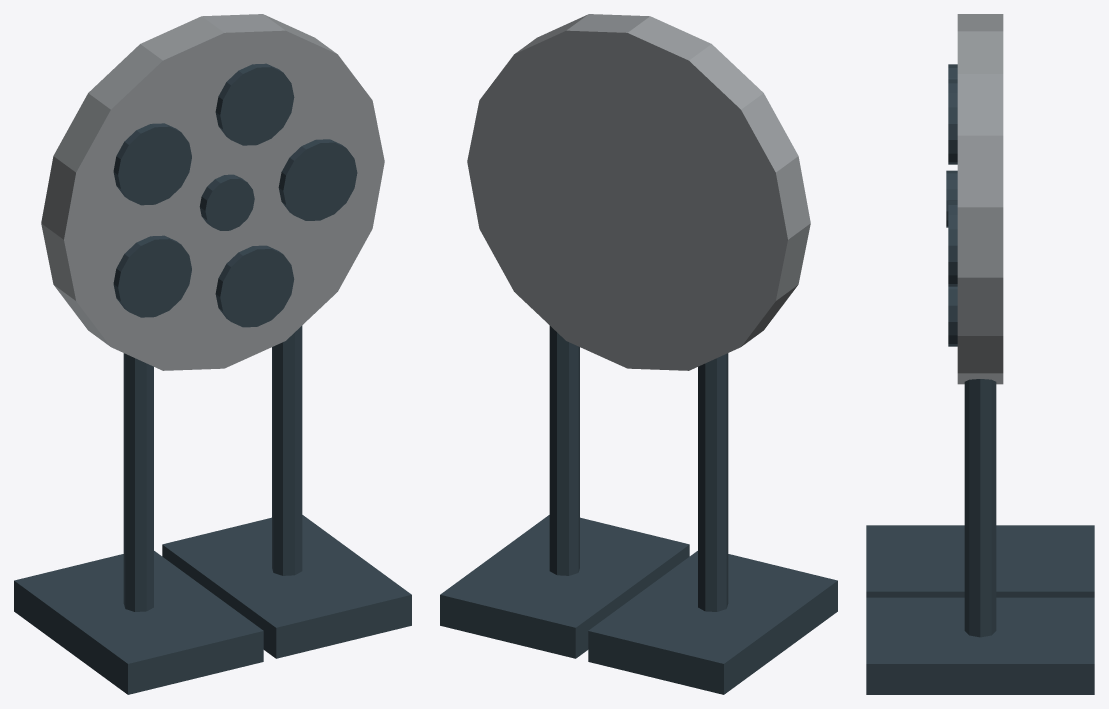
Rendered from film_reel_sign.glb.
The picture shows the model from 3 angles, left to right: view 1: azimuth 30°, elevation 25°; view 2: azimuth 150°, elevation 25°; view 3: azimuth 270°, elevation 25°; orthographic projection.
Parts seen in each view (by area): view 1: reel, foot, foot.001, post, post.001, reel_hole.002, reel_hole, reel_hole.003, reel_hole.001, reel_hole.004, hub; view 2: reel, foot, foot.001, post, post.001; view 3: foot.001, reel, foot, post.001, reel_hole, reel_hole.001, reel_hole.004, hub.
Boxes of the visible parts, left/top/right/bottom form: reel: left=41, top=14, right=384, bottom=370; foot: left=14, top=551, right=263, bottom=694; foot.001: left=162, top=515, right=411, bottom=658; post: left=123, top=353, right=153, bottom=611; post.001: left=272, top=325, right=302, bottom=575; reel_hole.002: left=113, top=123, right=191, bottom=205; reel_hole: left=278, top=139, right=357, bottom=220; reel_hole.003: left=113, top=235, right=191, bottom=317; reel_hole.001: left=215, top=63, right=294, bottom=145; reel_hole.004: left=215, top=245, right=294, bottom=327; hub: left=199, top=174, right=254, bottom=230; reel: left=467, top=14, right=810, bottom=370; foot: left=588, top=551, right=837, bottom=694; foot.001: left=440, top=515, right=689, bottom=658; post: left=698, top=353, right=728, bottom=611; post.001: left=549, top=325, right=579, bottom=575; foot.001: left=866, top=597, right=1094, bottom=694; reel: left=957, top=14, right=1003, bottom=384; foot: left=866, top=525, right=1094, bottom=597; post.001: left=964, top=379, right=996, bottom=637; reel_hole: left=948, top=201, right=957, bottom=286; reel_hole.001: left=948, top=79, right=957, bottom=164; reel_hole.004: left=948, top=286, right=957, bottom=346; hub: left=946, top=170, right=957, bottom=227.
Size of the model in its own units: 1.3 by 2.3 by 0.8.
